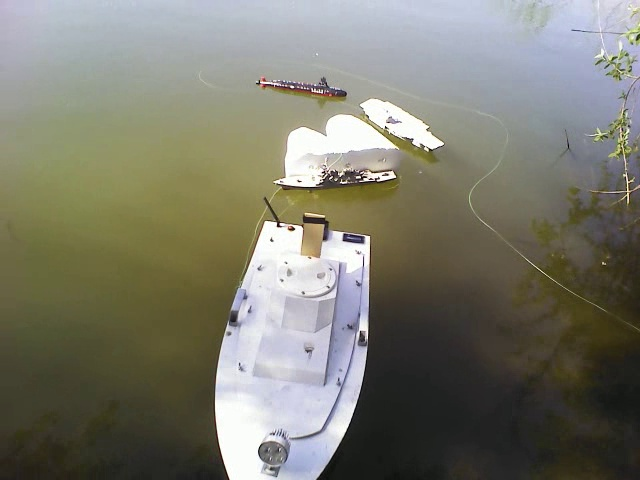aircraft_carrier: (364, 93, 448, 155)
boat: (211, 214, 375, 472)
iceberg: (285, 111, 404, 173)
submarine: (254, 72, 351, 100)
warship: (273, 167, 401, 194)
